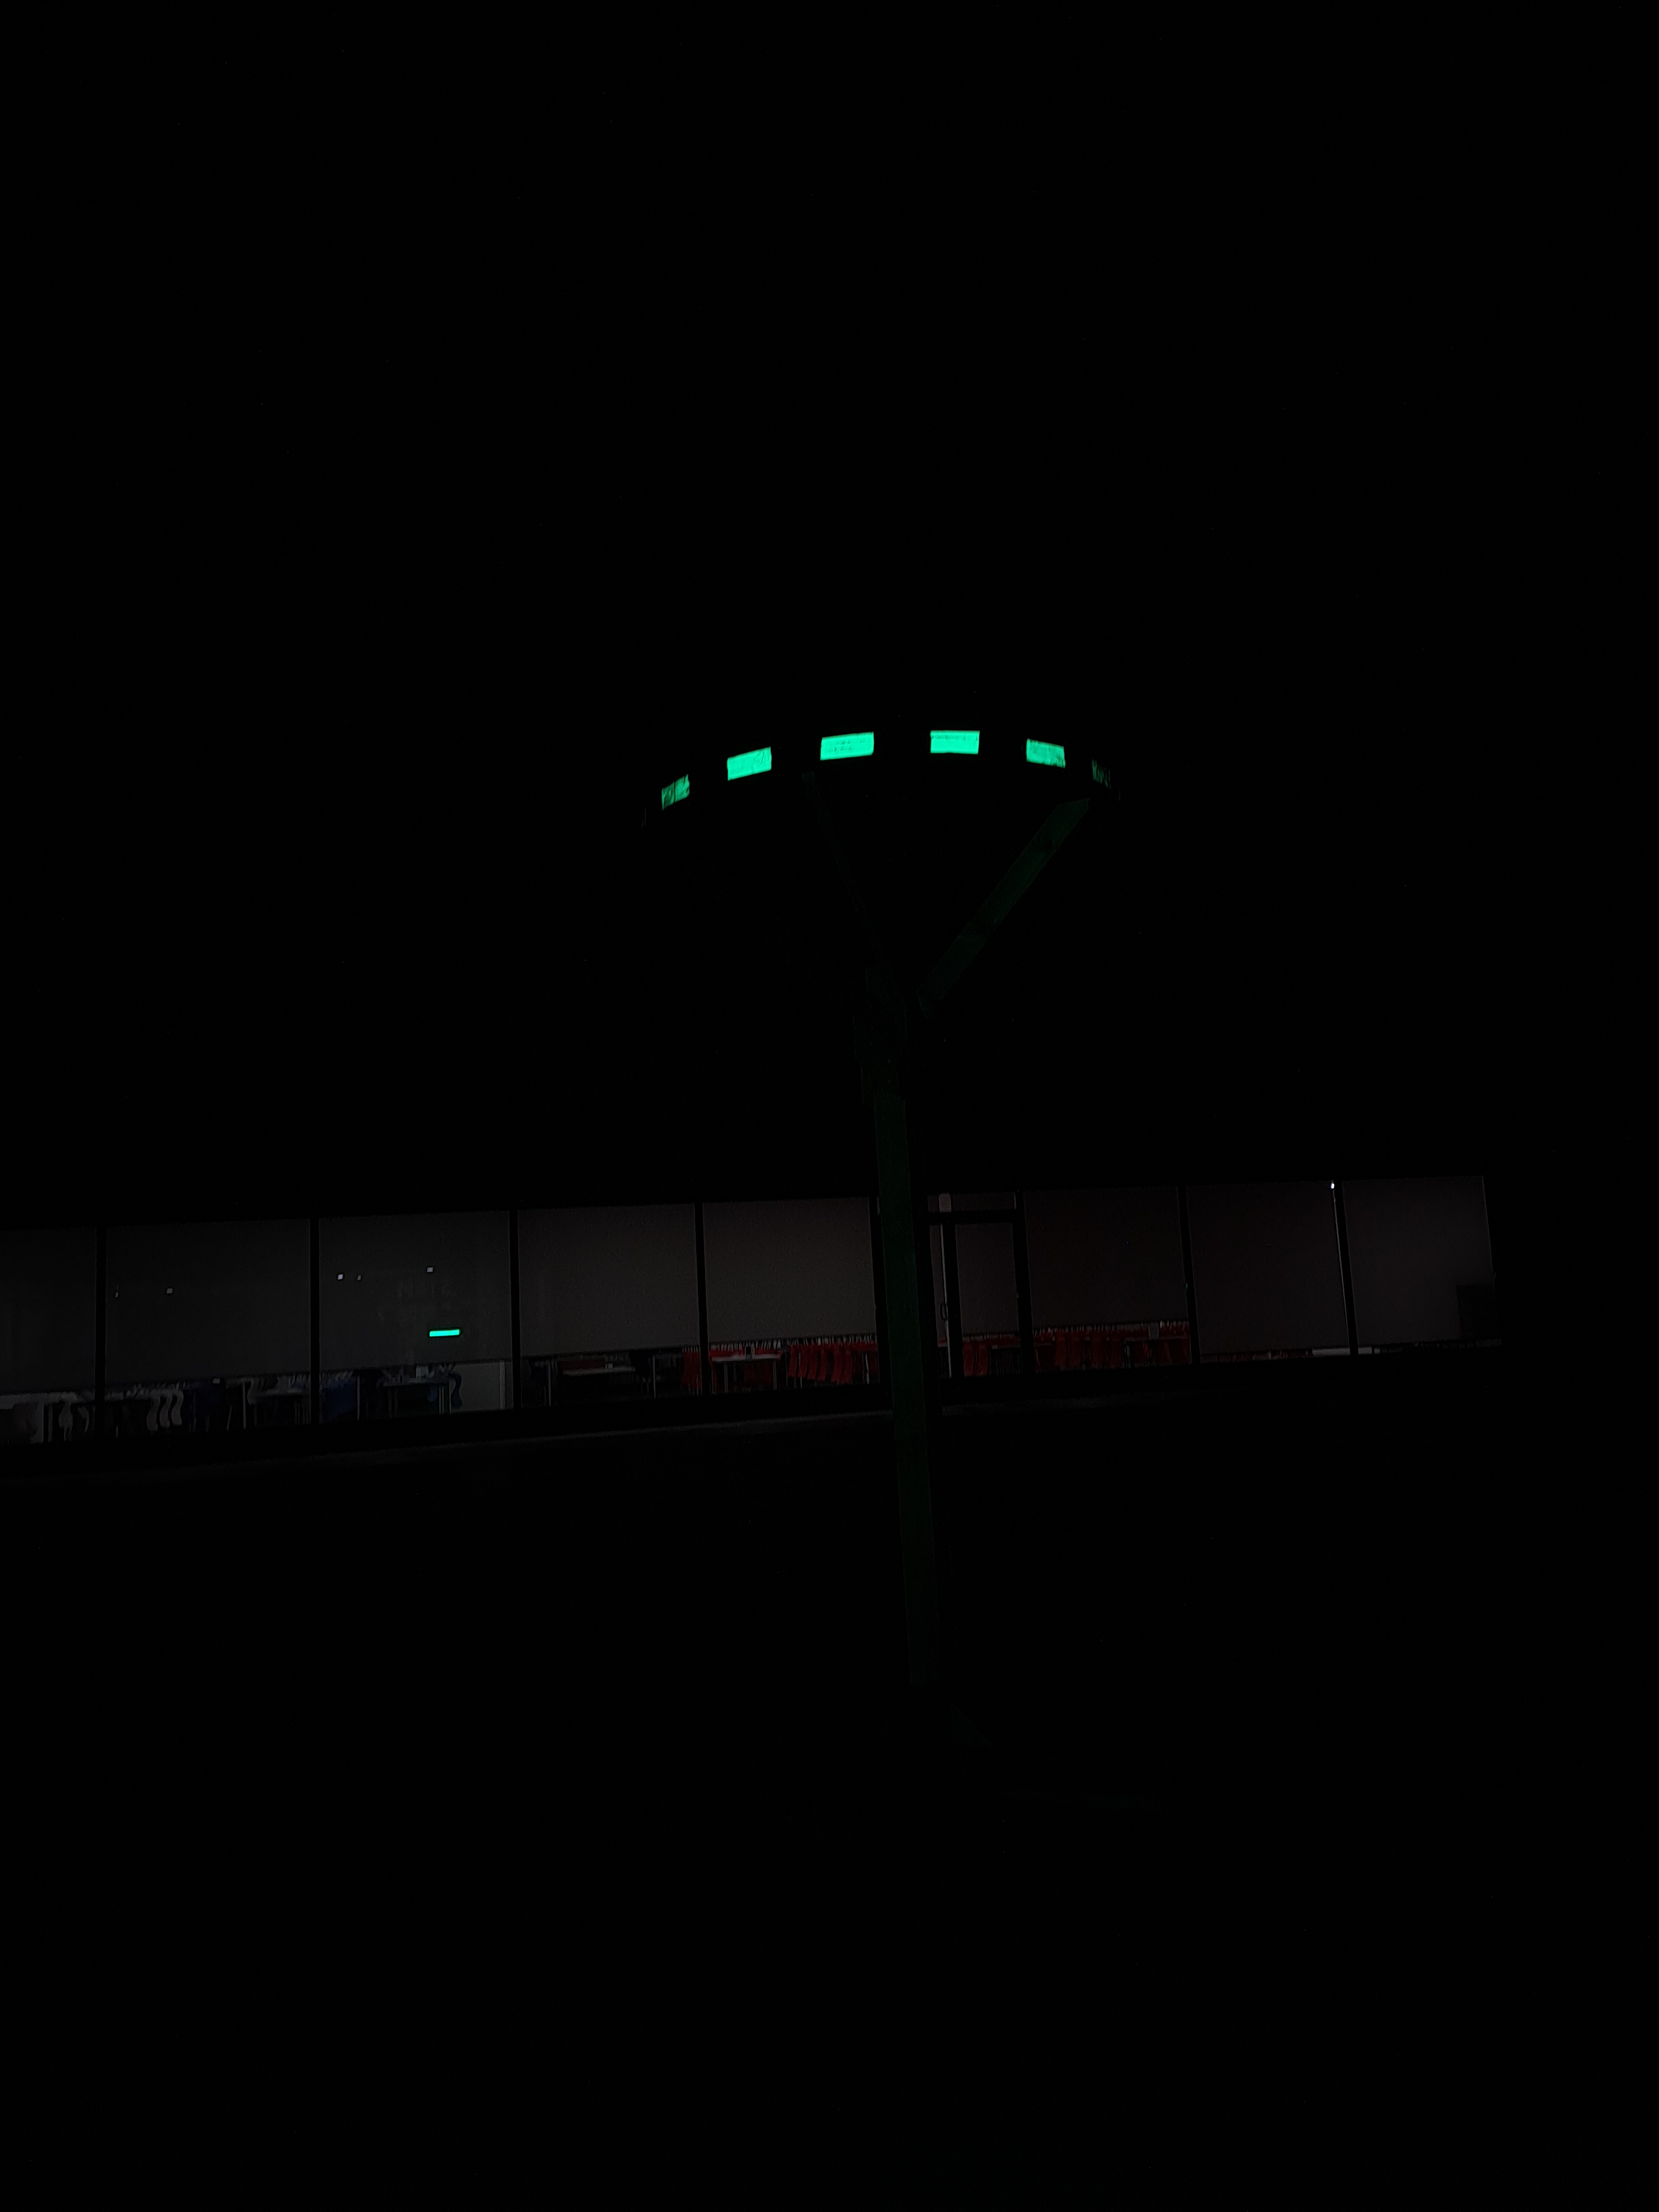hoop: (612, 709, 1114, 806)
